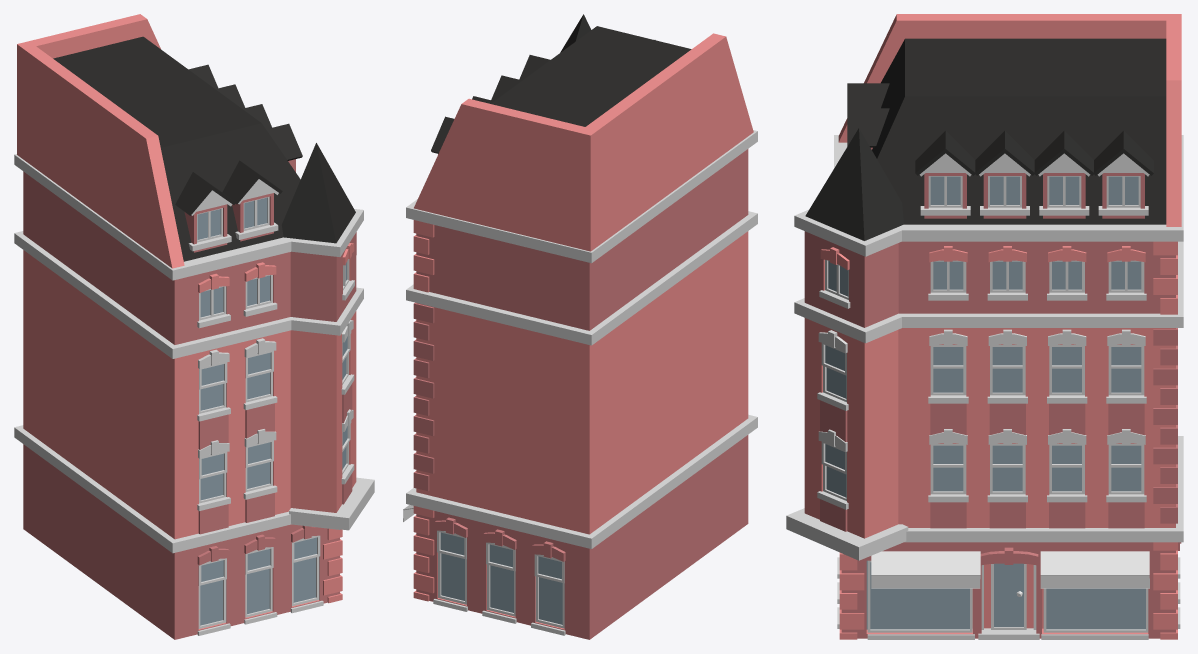
Rendered from brick_house_pink-corner.fbx.
3 views of the same model, side by side, from view 1: azimuth 30°, elevation 25°; view 2: azimuth 150°, elevation 25°; view 3: azimuth 270°, elevation 25° (orthographic). The views are drawn at different scales.
Visible parts, largest first — view 1: Cube.022, Cube.011, Cube.040, Cube.044, Cube.035, Cube.041, Cube, Cube.014, Cube.024, Cube.037; view 2: Cube.022, Cube.044, Cube.038, Cube.037, Cube.036, Cube.014; view 3: Cube.022, Cube.018, Cube.011, Cube.014, Cube.034, Plane.002, Cube.016, Cube.024, Cube.020, Cube.038, Cube.037, Cube (+3 smaller).
Boxes of the visible parts, left/top/right/bottom form: Cube.022: left=14, top=14, right=349, bottom=639; Cube.011: left=281, top=143, right=363, bottom=529; Cube.040: left=197, top=338, right=277, bottom=534; Cube.044: left=197, top=525, right=323, bottom=635; Cube.035: left=175, top=160, right=282, bottom=252; Cube.041: left=197, top=262, right=277, bottom=328; Cube: left=289, top=477, right=374, bottom=530; Cube.014: left=188, top=64, right=302, bottom=171; Cube.024: left=341, top=320, right=354, bottom=504; Cube.037: left=323, top=528, right=342, bottom=603; Cube.022: left=406, top=26, right=757, bottom=639; Cube.044: left=433, top=517, right=565, bottom=635; Cube.038: left=413, top=302, right=434, bottom=491; Cube.037: left=413, top=506, right=434, bottom=601; Cube.036: left=413, top=220, right=434, bottom=292; Cube.014: left=431, top=55, right=550, bottom=154; Cube.022: left=834, top=14, right=1183, bottom=638; Cube.018: left=928, top=329, right=1146, bottom=528; Cube.011: left=794, top=128, right=903, bottom=538; Cube.014: left=915, top=130, right=1153, bottom=218; Cube.034: left=866, top=560, right=1148, bottom=639; Plane.002: left=871, top=551, right=1149, bottom=588; Cube.016: left=928, top=246, right=1146, bottom=300; Cube.024: left=817, top=330, right=848, bottom=531; Cube.020: left=978, top=547, right=1039, bottom=639; Cube.038: left=1153, top=328, right=1177, bottom=523; Cube.037: left=839, top=542, right=1177, bottom=639; Cube: left=786, top=508, right=908, bottom=560.
Size of the model in its own units: 788 by 1708 by 1153.
